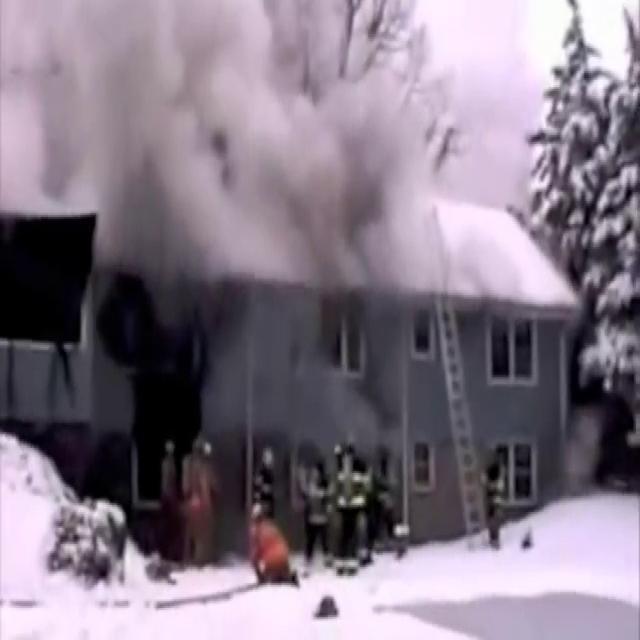Smoke: (1, 0, 570, 283)
